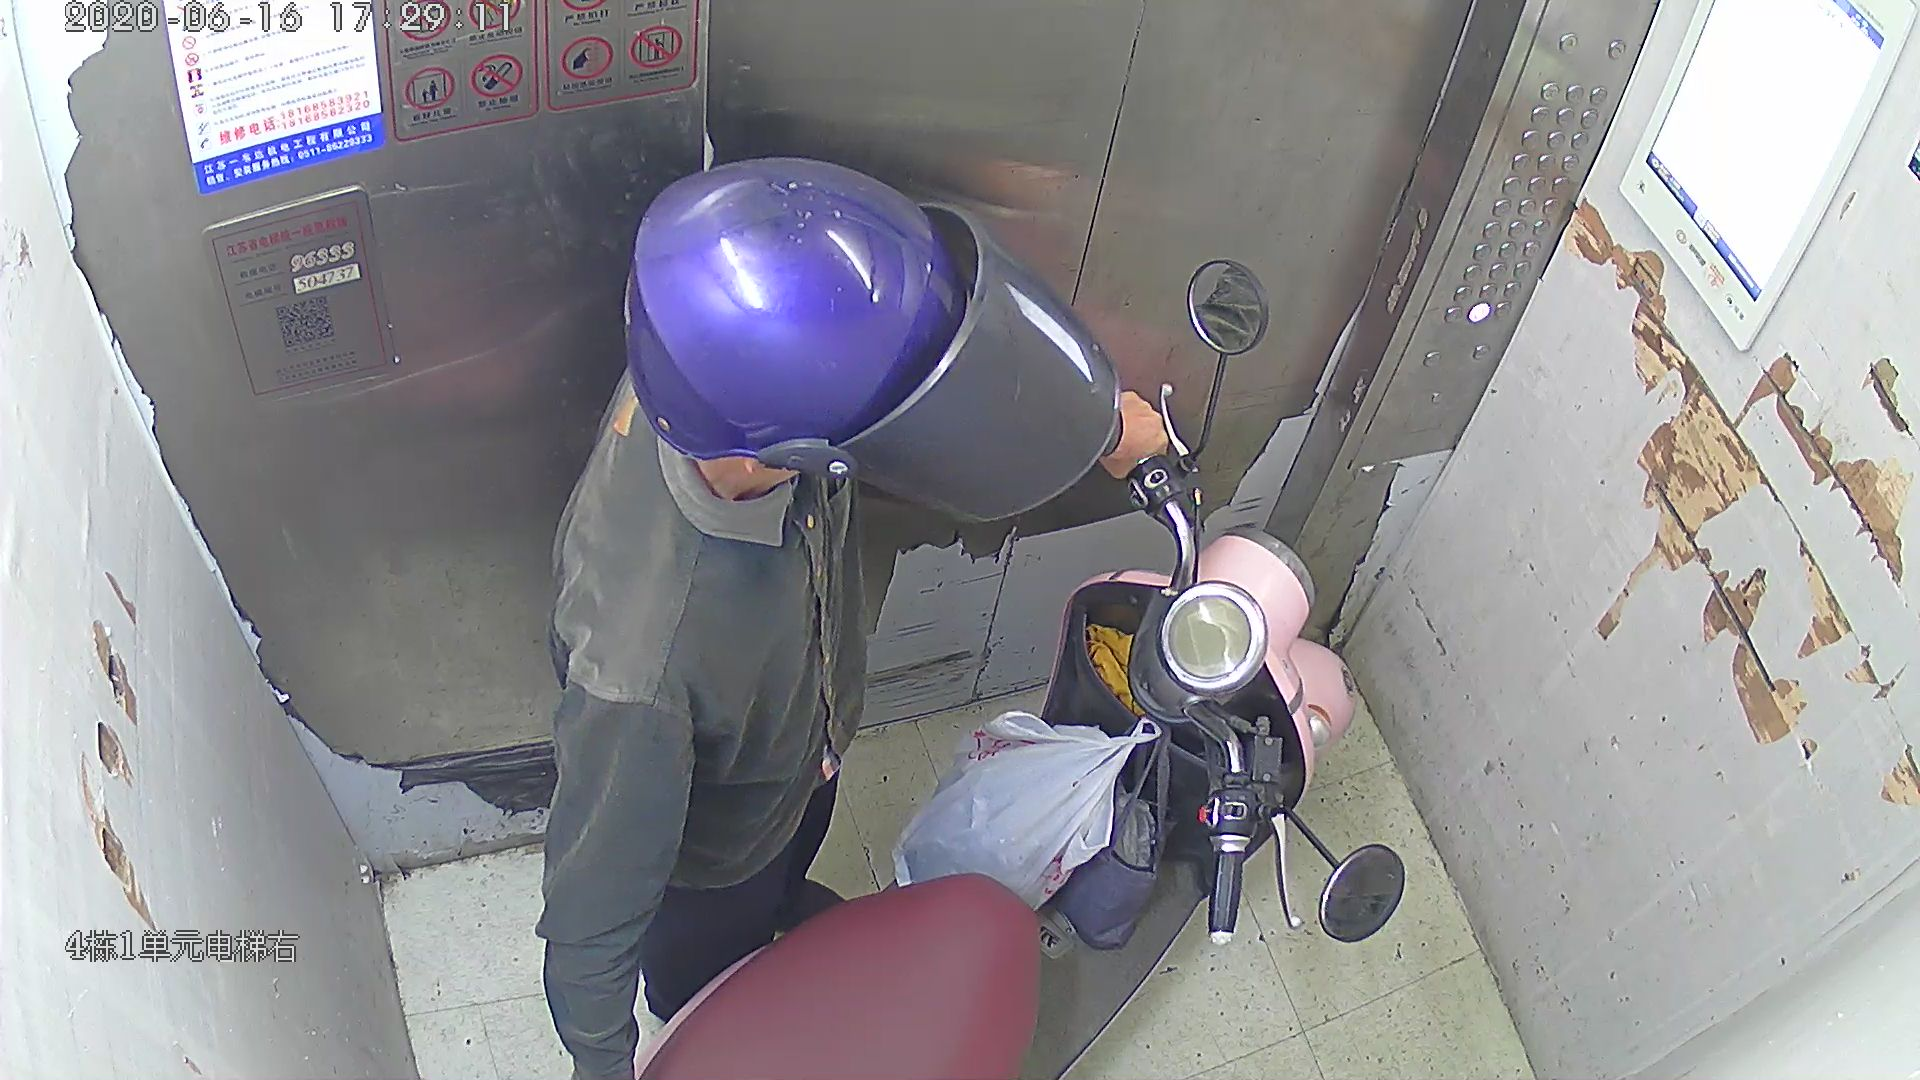Electric-bicycle: (659, 251, 1400, 1080)
